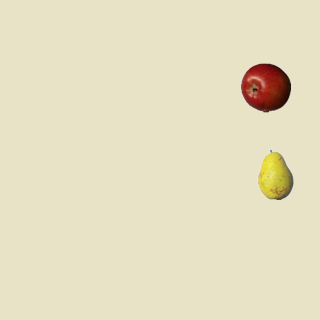Apple Braeburn: (240, 62, 290, 112)
Pear Monster: (250, 149, 300, 199)
